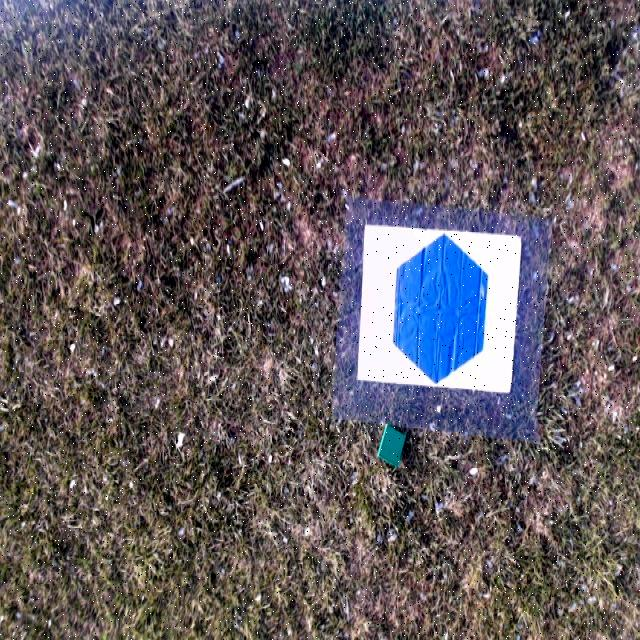blue_hexagon: (392, 231, 488, 389)
